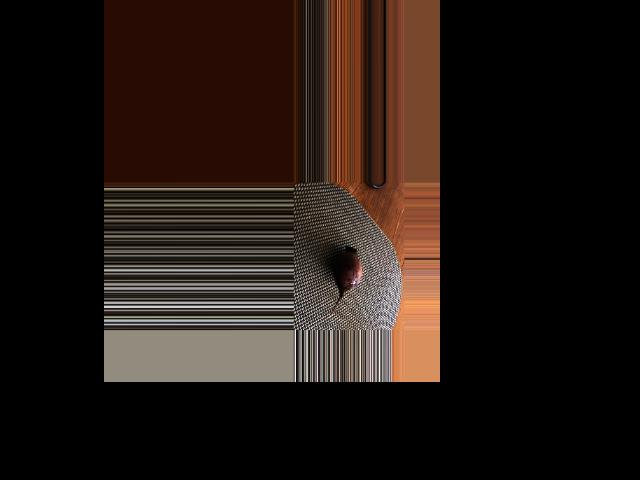beet: (326, 245, 362, 317)
